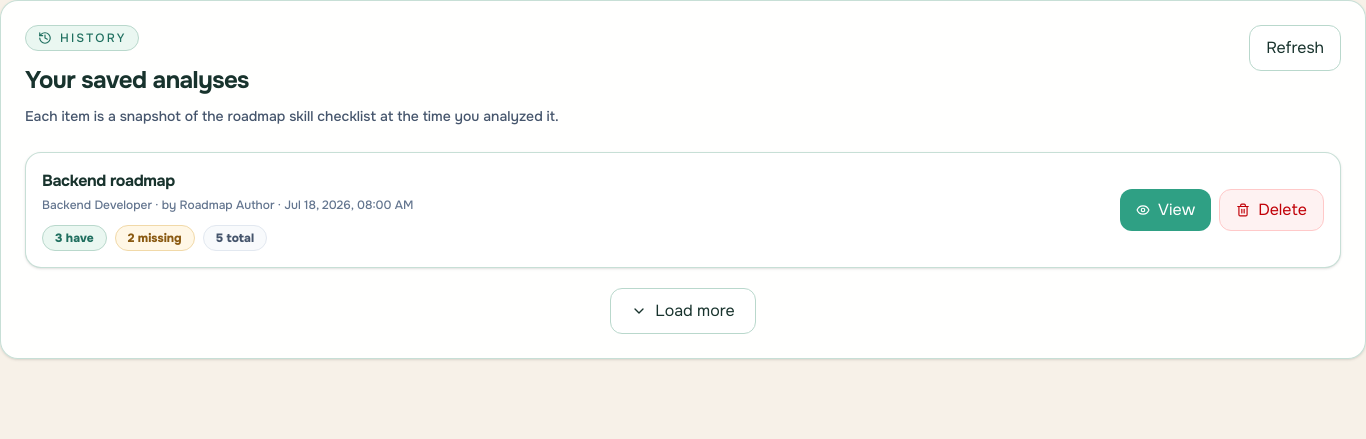
Scenario: SkillGapHistoryPanel › loads the next cursor page and appends its items
Expected: the heading "Backend roadmap" is shown, [42,170,175,191]
Click the button "Load more": (683, 311) [610,288,756,334]
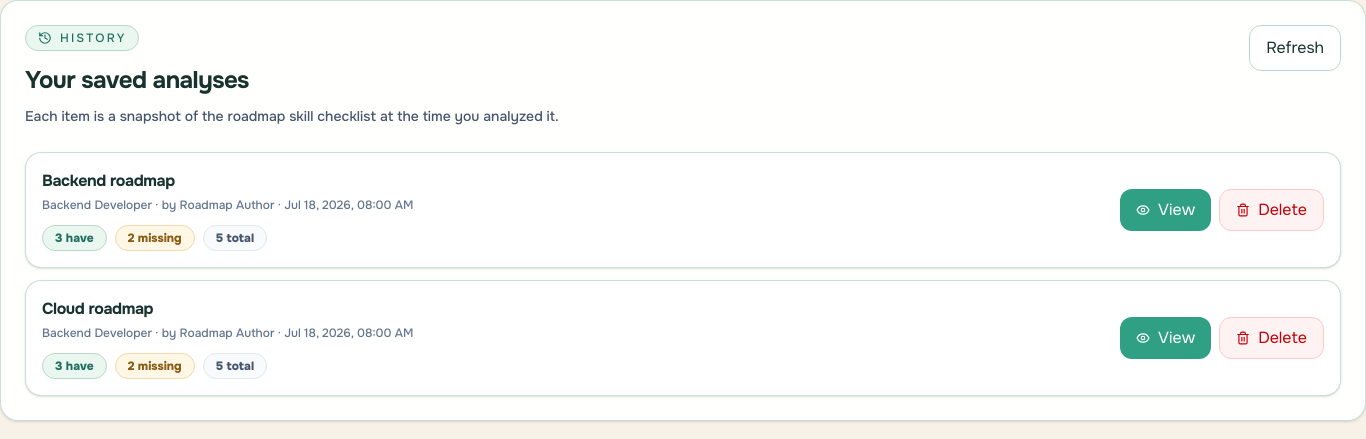
Expected: the heading "Cloud roadmap" is shown, [42,298,153,319]
Expected: the button "Load more" is gone
